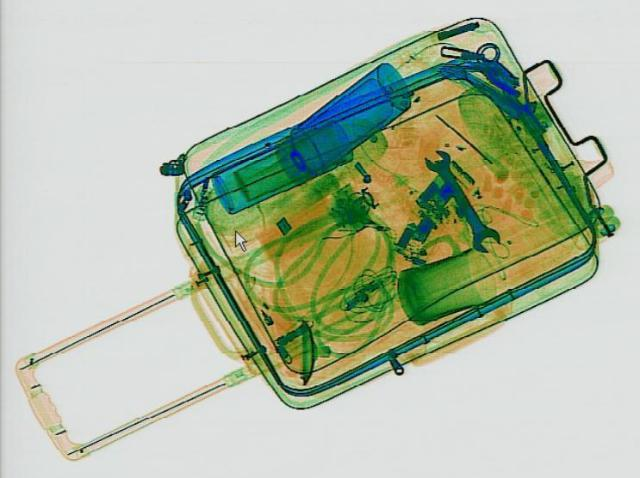Wrench: (414, 147, 508, 255)
